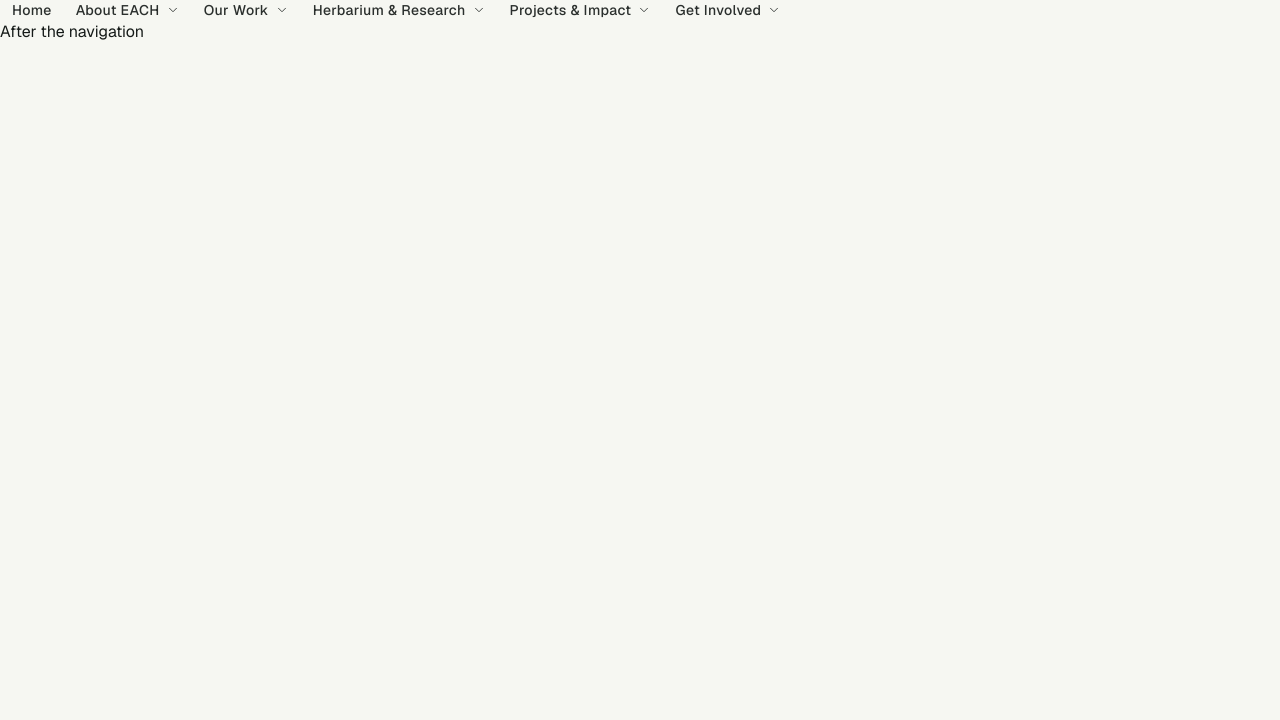
it: DesktopNav › closes on a second click
Click the button "Herbarium & Research" at (399, 10), box left=301, top=0, right=498, bottom=20
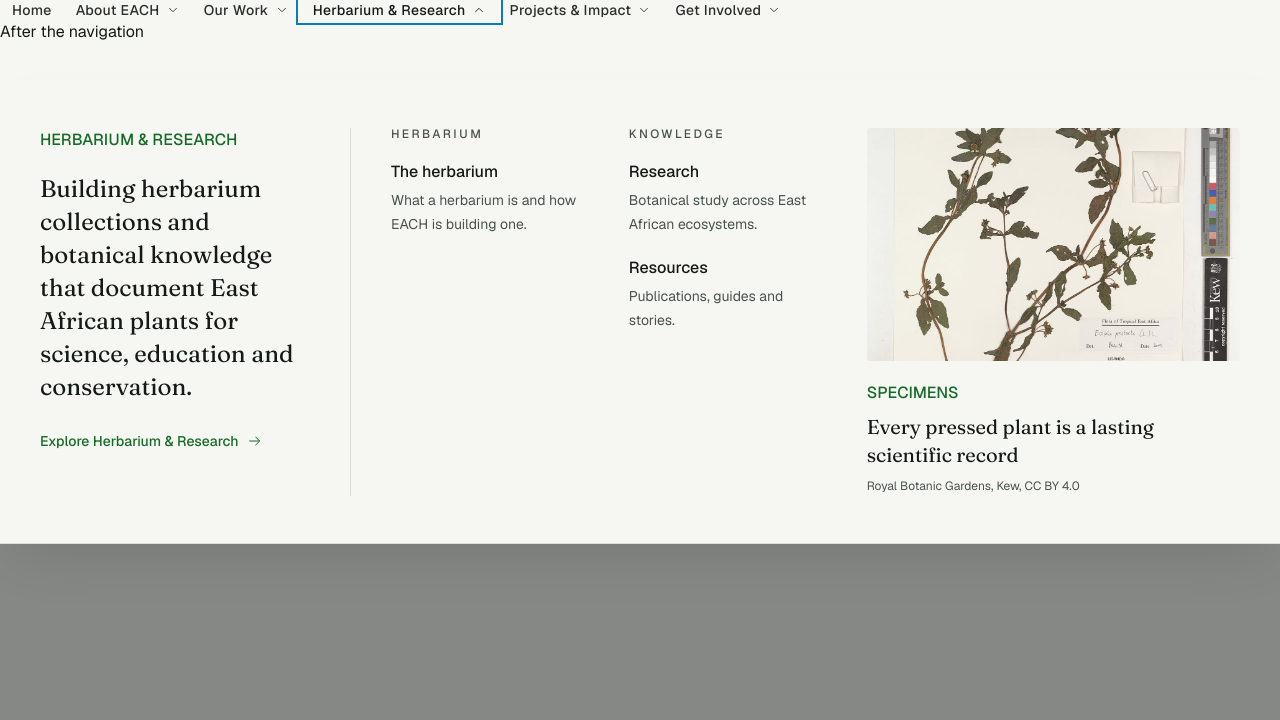
Click the button "Herbarium & Research" at (399, 10), box left=301, top=0, right=498, bottom=20
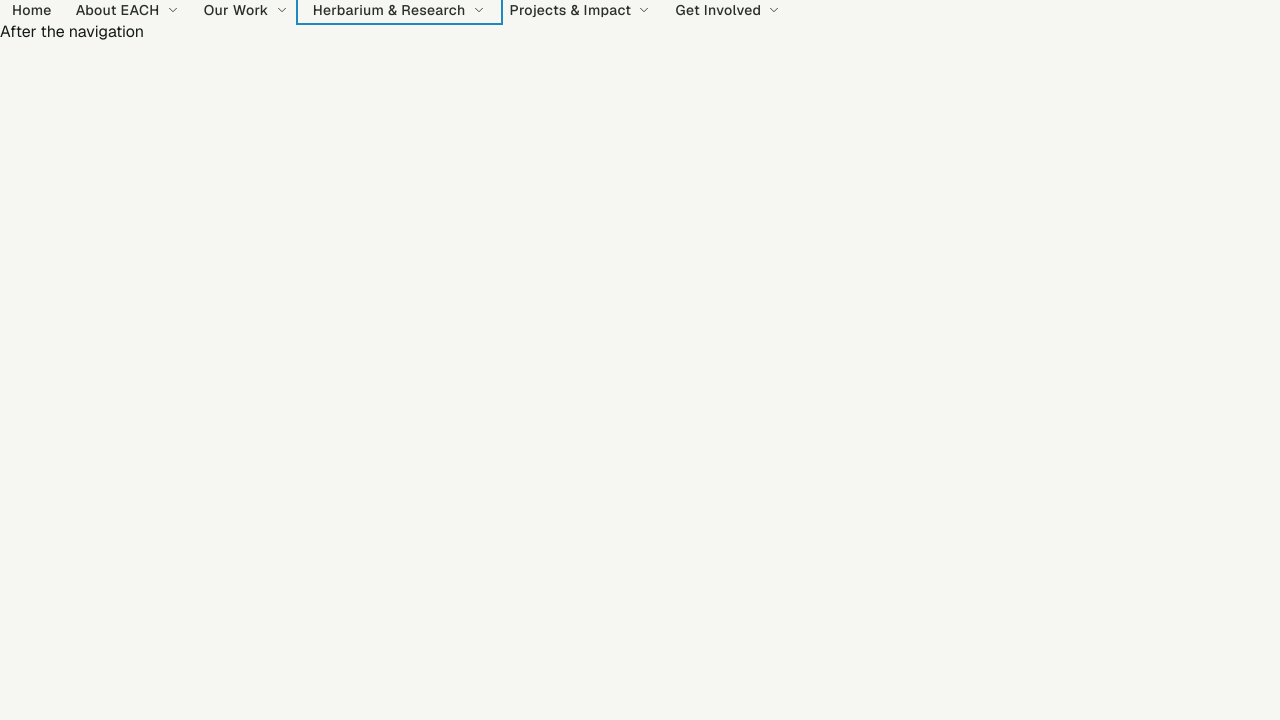
Now the button "Herbarium & Research" is collapsed, box left=301, top=0, right=498, bottom=20
Now the element with id "mega-menu-herbarium" is gone
